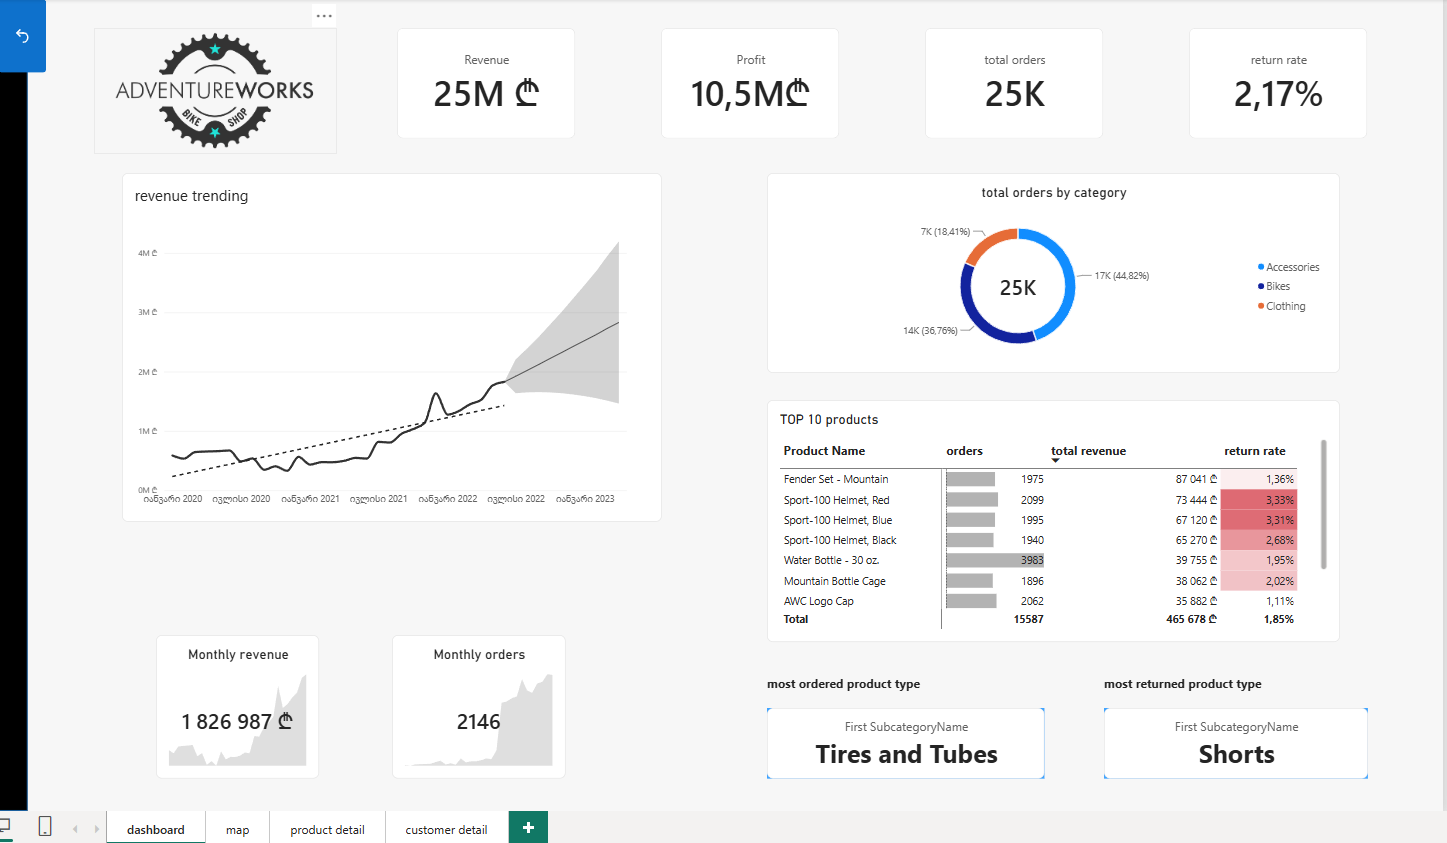

Layout of this report page (visuals, bound fields, positions):
{"tool":"powerbi","page":{"name":"dashboard","canvas":[1920,1080],"ordinal":0},"visuals":[{"type":"shape","box":[0,0,37.9,1079.6],"z":0},{"type":"cardVisual","fields":{"Data":["measure table.total revenue"]},"box":[529.6,37.9,237.8,147.4],"z":0,"group":"g1"},{"type":"image","box":[126.9,37.9,322.4,167.8],"z":1000},{"type":"cardVisual","fields":{"Data":["measure table.total profit"]},"box":[880.7,37.9,237.8,147.4],"z":1000,"group":"g1"},{"type":"group","id":"g1","title":"KPI values","box":[529.6,37.9,1291.2,147.4],"z":2000},{"type":"cardVisual","fields":{"Data":["measure table.total orders"]},"box":[1231.8,37.9,237.8,147.4],"z":2000,"group":"g1"},{"type":"cardVisual","fields":{"Data":["measure table.return rate"]},"box":[1583,37.9,237.8,147.4],"z":3000,"group":"g1"},{"type":"lineChart","title":"revenue trending","fields":{"Category":["Calendar Lookup.Date.Variation.Date Hierarchy.Year","Calendar Lookup.Date.Variation.Date Hierarchy.Quarter","Calendar Lookup.Date.Variation.Date Hierarchy.Month"],"Y":["measure table.total revenue"]},"box":[163.4,232,717.8,464],"z":3000},{"type":"kpi","title":"Monthly revenue","fields":{"Indicator":["measure table.total revenue"],"TrendLine":["Calendar Lookup.date hierarchy.Start of Month"]},"box":[208.6,846.2,217.4,191.1],"z":4000},{"type":"kpi","title":"Monthly orders","fields":{"Indicator":["measure table.total orders"],"TrendLine":["Calendar Lookup.date hierarchy.Start of Month"]},"box":[522.3,846.2,230.5,191.1],"z":5000},{"type":"donutChart","title":"total orders by category","fields":{"Category":["Product Categories Lookup.CategoryName"],"Y":["measure table.total orders"]},"box":[1021.3,232,761.6,265.5],"z":6000},{"type":"pivotTable","title":"TOP 10 products","fields":{"Rows":["Product Lookup.ProductName"],"Values":["measure table.total orders","measure table.total revenue","measure table.return rate"]},"box":[1021.3,534,761.6,322.4],"z":7000},{"type":"cardVisual","fields":{"Data":["Min(Product Subcategories Lookup.SubcategoryName)"]},"box":[1021.3,942.5,369.1,94.8],"z":8000},{"type":"cardVisual","fields":{"Data":["Min(Product Subcategories Lookup.SubcategoryName)"]},"box":[1469.2,942.5,351.6,94.8],"z":9000},{"type":"textbox","box":[1291,0,492,150],"z":10000},{"type":"textbox","box":[1021.3,898.7,369.1,43.8],"z":11000},{"type":"textbox","box":[1469.2,898.7,351.6,43.8],"z":12000},{"type":"actionButton","box":[0,0,62.6,98.1],"z":12001}]}

Visuals, with their boxes on the page's 1920x1080 design canvas (x1, y1, x2, y2). These are canvas units, not pixel positions in the 1447x843 screenshot, which may show the page scaled, cropped or inside an application window:
shape: pyautogui.locateOnScreen(0, 0, 38, 1080)
cardVisual - measure table.total revenue: pyautogui.locateOnScreen(530, 38, 767, 185)
image: pyautogui.locateOnScreen(127, 38, 449, 206)
cardVisual - measure table.total profit: pyautogui.locateOnScreen(881, 38, 1118, 185)
"KPI values" group: pyautogui.locateOnScreen(530, 38, 1821, 185)
cardVisual - measure table.total orders: pyautogui.locateOnScreen(1232, 38, 1470, 185)
cardVisual - measure table.return rate: pyautogui.locateOnScreen(1583, 38, 1821, 185)
"revenue trending" lineChart: pyautogui.locateOnScreen(163, 232, 881, 696)
"Monthly revenue" kpi: pyautogui.locateOnScreen(209, 846, 426, 1037)
"Monthly orders" kpi: pyautogui.locateOnScreen(522, 846, 753, 1037)
"total orders by category" donutChart: pyautogui.locateOnScreen(1021, 232, 1783, 498)
"TOP 10 products" pivotTable: pyautogui.locateOnScreen(1021, 534, 1783, 856)
cardVisual - Min(Product Subcategories Lookup.SubcategoryName): pyautogui.locateOnScreen(1021, 942, 1390, 1037)
cardVisual - Min(Product Subcategories Lookup.SubcategoryName): pyautogui.locateOnScreen(1469, 942, 1821, 1037)
textbox: pyautogui.locateOnScreen(1291, 0, 1783, 150)
textbox: pyautogui.locateOnScreen(1021, 899, 1390, 942)
textbox: pyautogui.locateOnScreen(1469, 899, 1821, 942)
actionButton: pyautogui.locateOnScreen(0, 0, 63, 98)
